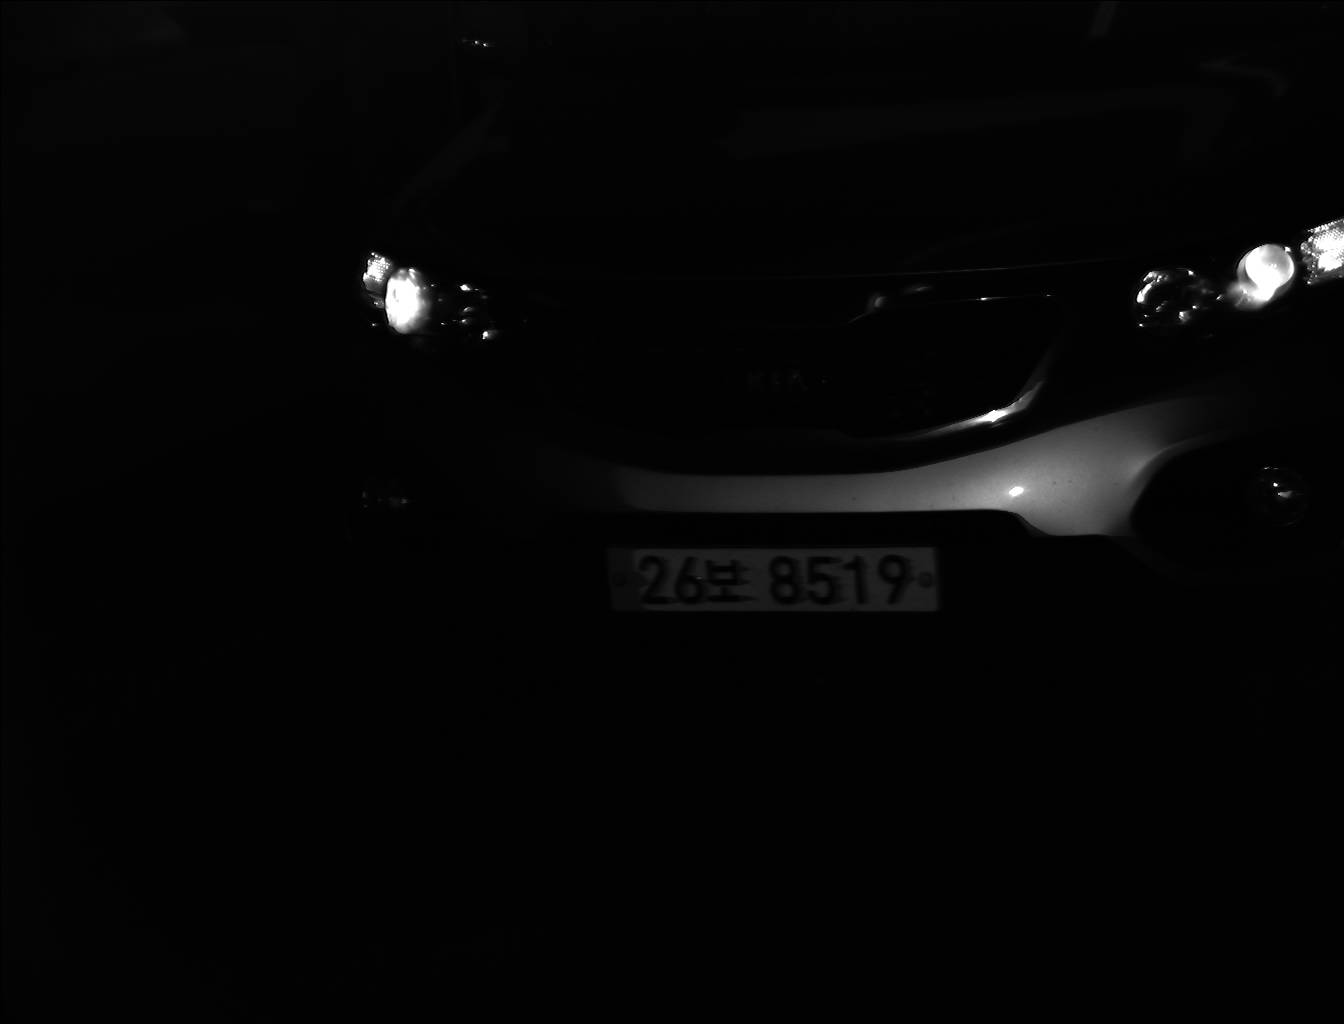car: (280, 1, 1331, 753)
plate: (581, 544, 939, 618)
